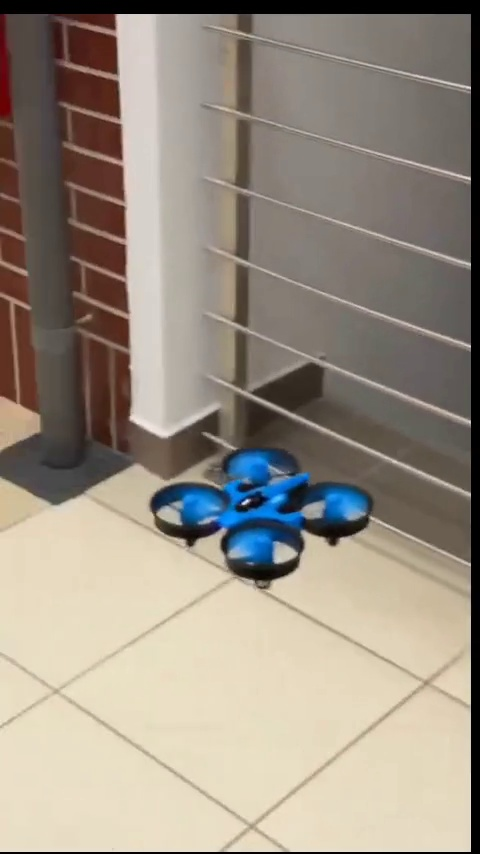drone: (148, 447, 371, 595)
